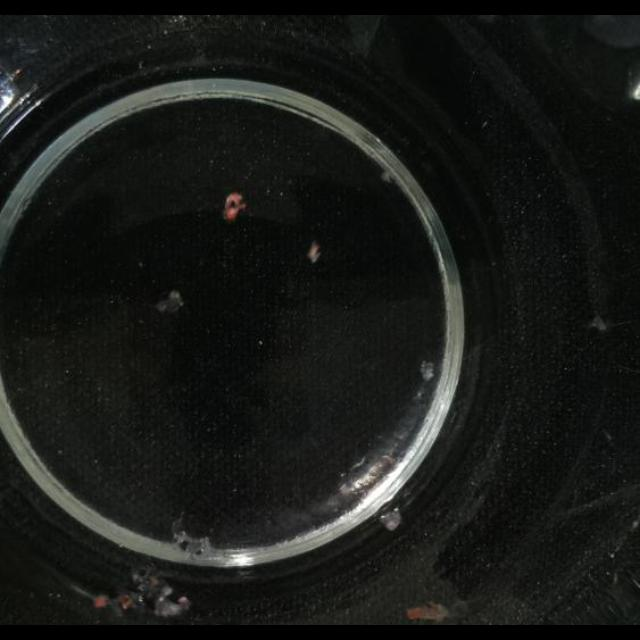Fibre: (154, 288, 184, 314)
Fragment: (96, 566, 190, 622), (221, 191, 245, 221), (306, 240, 322, 262)
microbeads: (590, 316, 608, 332), (380, 170, 394, 184)
